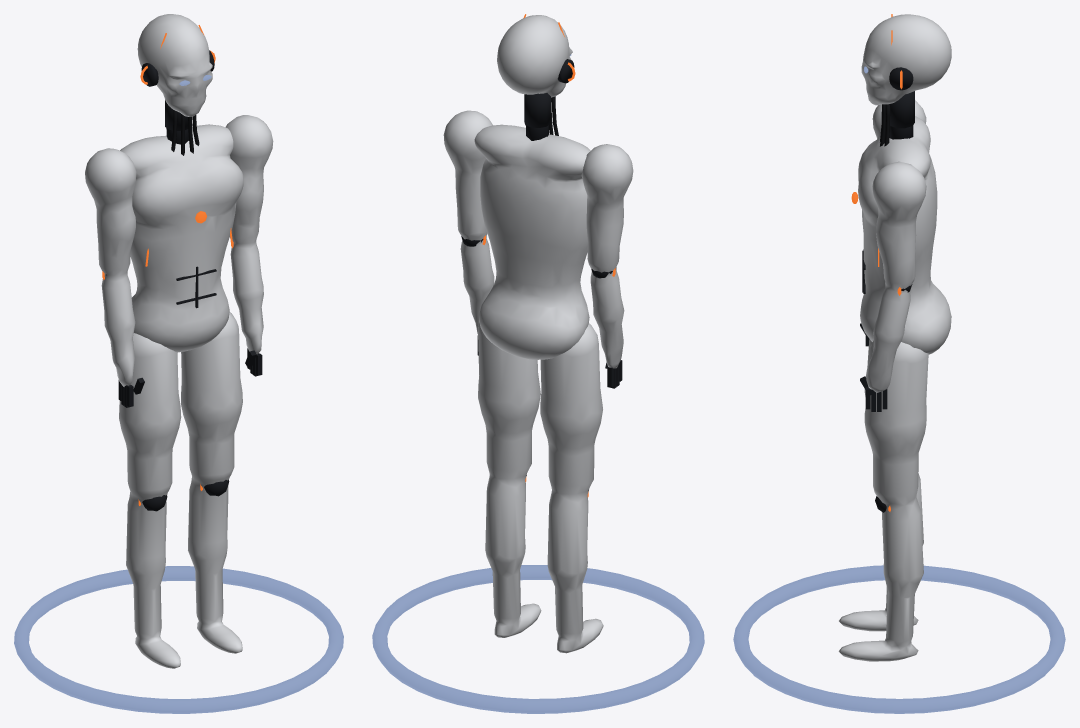
The model's file is Char_Android_Agent.001.gltf.
The picture shows the model from 3 angles, left to right: view 1: azimuth 30°, elevation 25°; view 2: azimuth 150°, elevation 25°; view 3: azimuth 270°, elevation 25°; orthographic projection.
Visible parts, largest first — view 1: Char_Android_Agent.001, Agent_Leg_L.001, Agent_Leg_R.001, Agent_Arm_R.001, Agent_Arm_L.001, Agent_Head.001; view 2: Char_Android_Agent.001, Agent_Leg_R.001, Agent_Leg_L.001, Agent_Arm_R.001, Agent_Head.001, Agent_Arm_L.001; view 3: Char_Android_Agent.001, Agent_Leg_L.001, Agent_Arm_L.001, Agent_Head.001, Agent_Leg_R.001.
Boxes of the visible parts, x1,y1,x2,y2 form: Char_Android_Agent.001: (14, 110, 343, 713); Agent_Leg_L.001: (181, 312, 242, 653); Agent_Leg_R.001: (119, 333, 181, 668); Agent_Arm_R.001: (85, 148, 144, 407); Agent_Arm_L.001: (225, 115, 273, 376); Agent_Head.001: (137, 14, 215, 130); Char_Android_Agent.001: (372, 96, 704, 713); Agent_Leg_R.001: (540, 323, 603, 653); Agent_Leg_L.001: (478, 322, 541, 637); Agent_Arm_R.001: (581, 144, 633, 388); Agent_Head.001: (497, 14, 575, 127); Agent_Arm_L.001: (443, 110, 494, 355); Char_Android_Agent.001: (733, 104, 1065, 713); Agent_Leg_L.001: (838, 340, 928, 661); Agent_Arm_L.001: (860, 161, 926, 411); Agent_Head.001: (861, 14, 951, 128); Agent_Leg_R.001: (839, 339, 923, 631).
Bounding box in the file's own units: 0.88 × 1.84 × 0.88.
